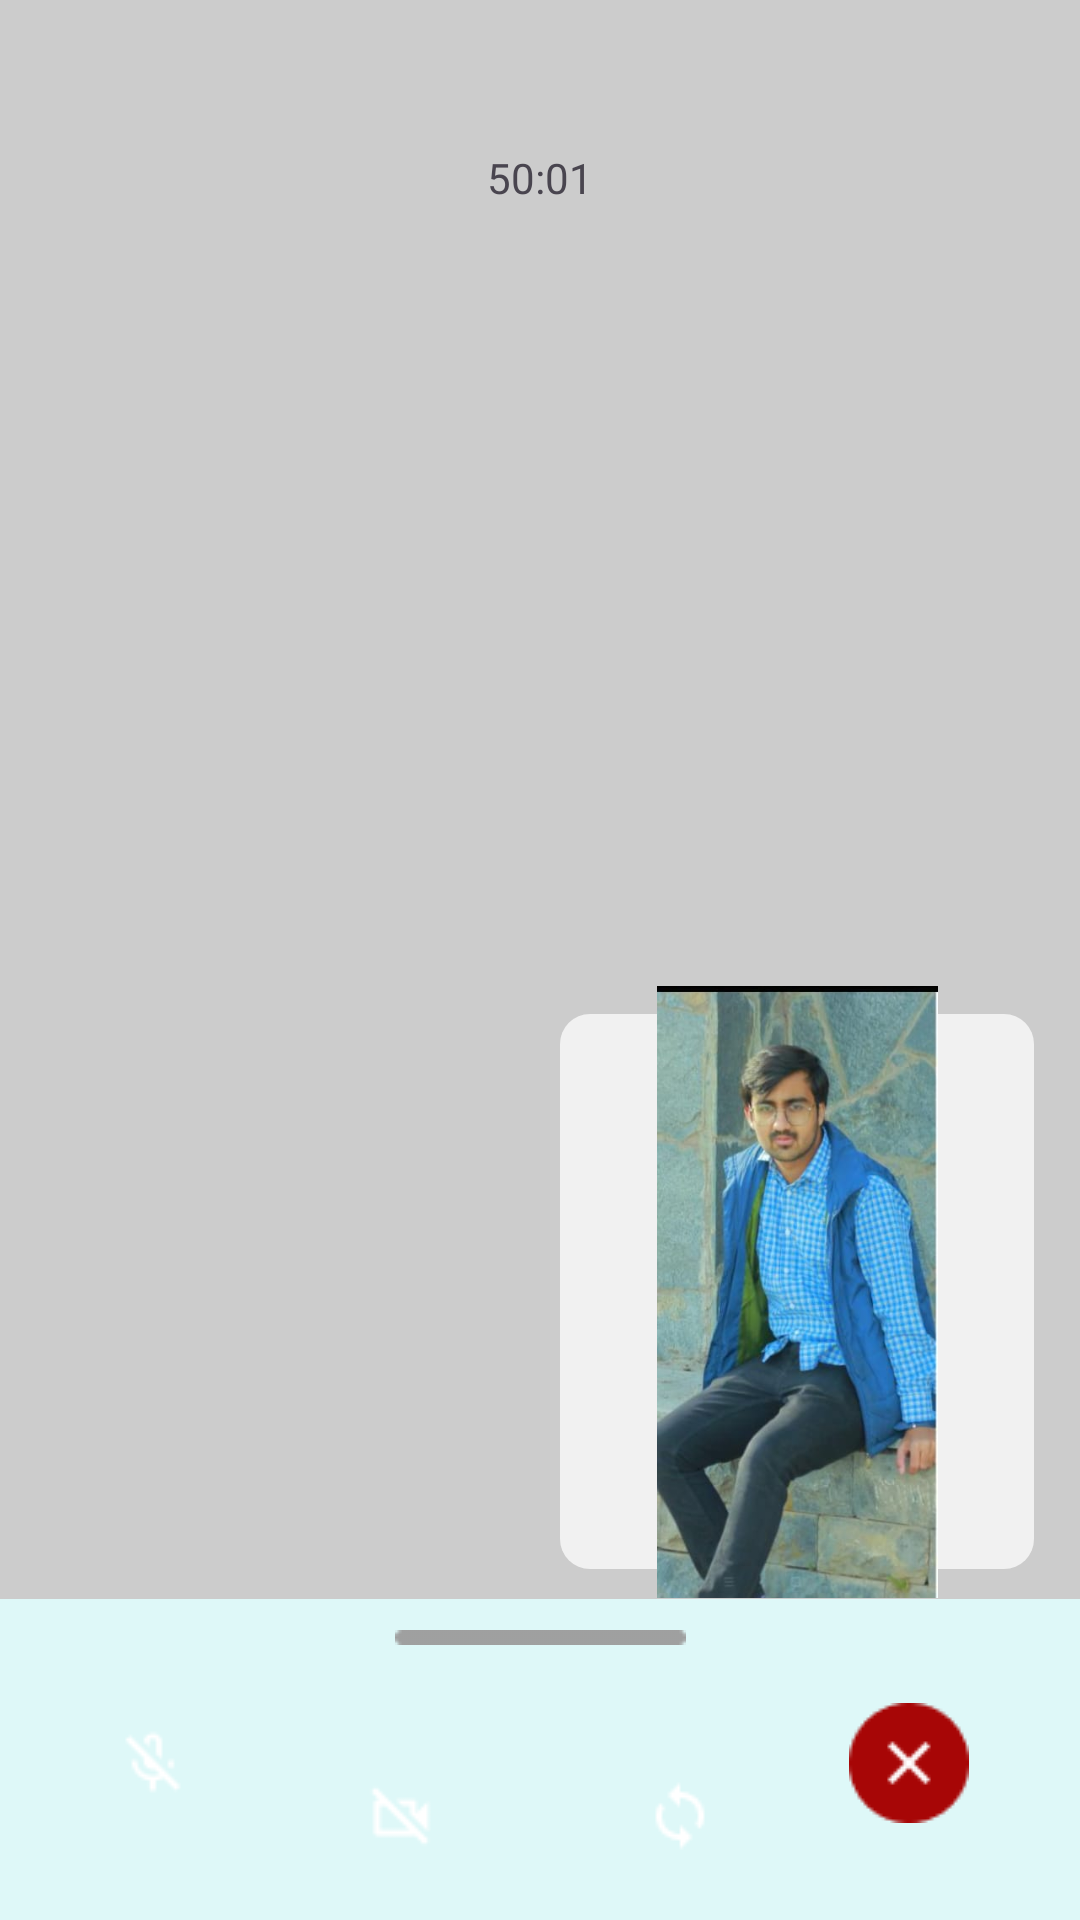

Screen size 1080w x 1920h. Icon name, then its center in pixels as [x,y]:
loop: [680,1816]
mic off: [152,1762]
videocam off: [400,1816]
